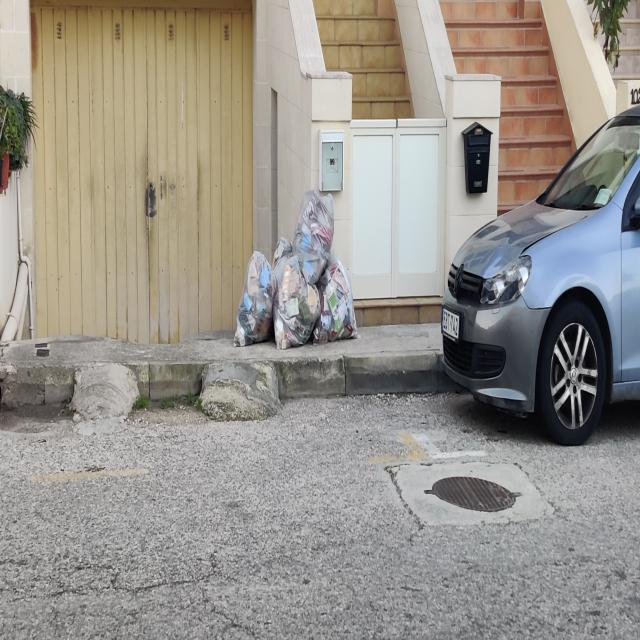Recyclable Material -Grey Bags-: (231, 188, 359, 356)
